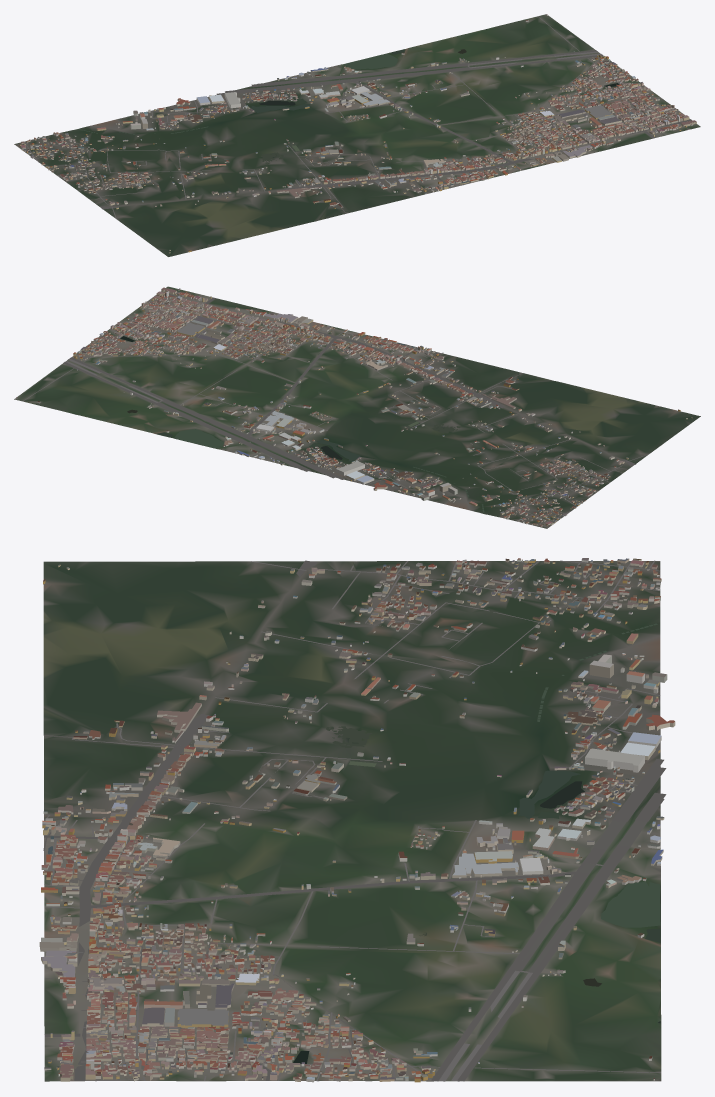
3 renders of one model, top to bottom at view 1: azimuth 30°, elevation 25°; view 2: azimuth 150°, elevation 25°; view 3: azimuth 270°, elevation 25°, orthographic. The views are drawn at different scales.
Parts seen in each view (by area): view 1: ground, buildings, roads, water; view 2: ground, buildings, roads, water; view 3: ground, buildings, roads, water.
Boxes of the visible parts, bbox=[...] form: ground: bbox=[14, 14, 700, 256]; buildings: bbox=[19, 14, 696, 253]; roads: bbox=[15, 16, 691, 219]; water: bbox=[79, 29, 619, 163]; ground: bbox=[14, 286, 700, 528]; buildings: bbox=[16, 287, 692, 526]; roads: bbox=[22, 294, 648, 527]; water: bbox=[74, 336, 484, 513]; ground: bbox=[43, 561, 661, 1081]; buildings: bbox=[39, 558, 675, 1082]; roads: bbox=[43, 560, 666, 1081]; water: bbox=[293, 623, 660, 1063].
Bounding box in the file's own units: 2808 × 31.37 × 1445.
